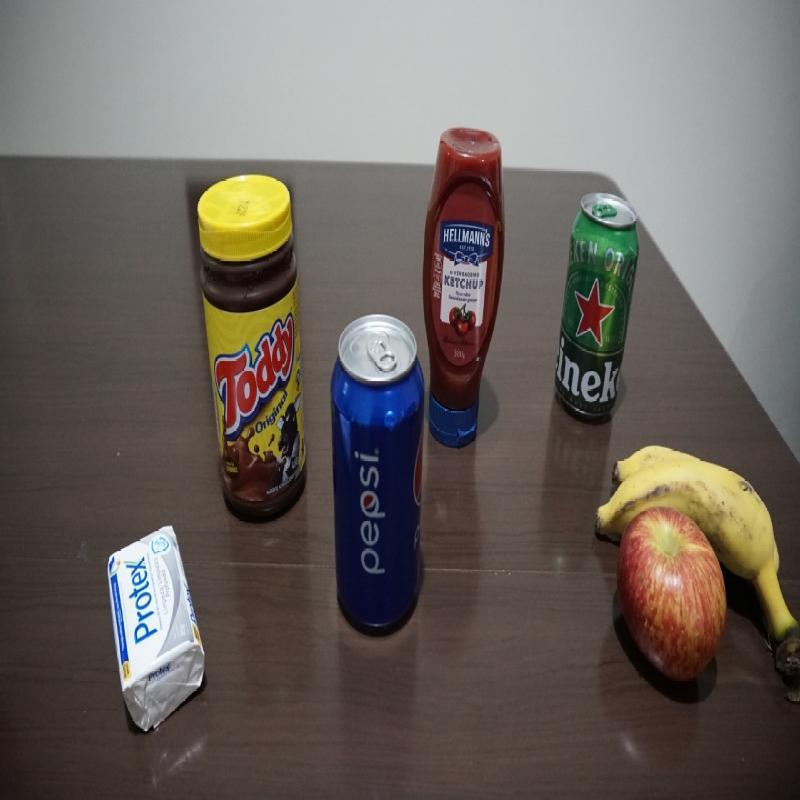Apple: (616, 523, 734, 680)
Banana: (605, 439, 774, 520)
Beer can: (558, 189, 640, 420)
Chocolate Powder: (193, 171, 310, 520)
Ketchup: (425, 123, 506, 461)
Soap: (107, 523, 208, 730)
Soda can: (330, 312, 420, 638)
